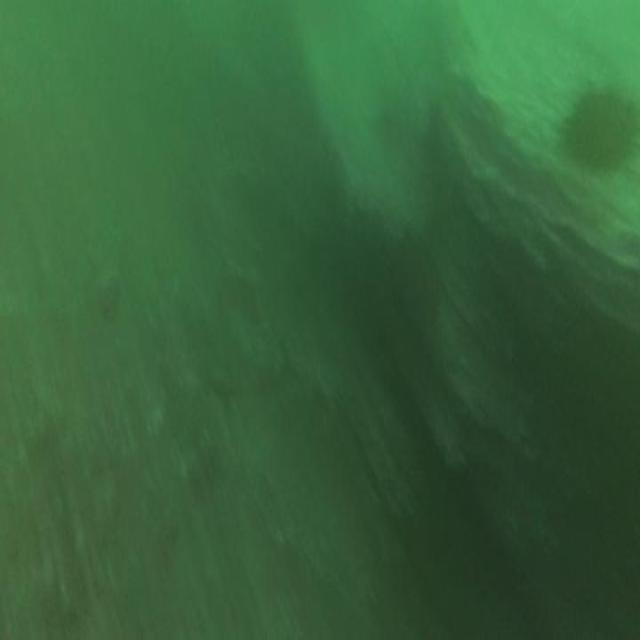echinus: (552, 76, 640, 178)
